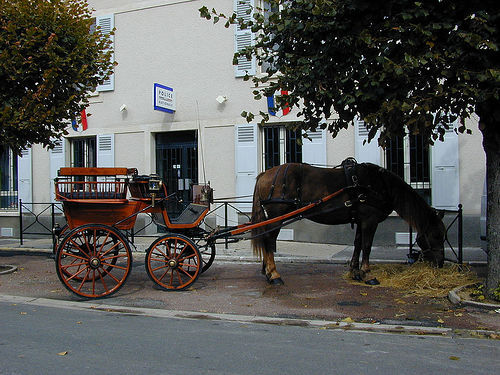horse: (248, 158, 447, 287)
